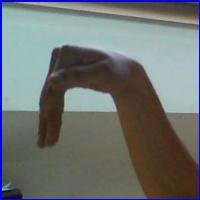A: (33, 43, 162, 159)
